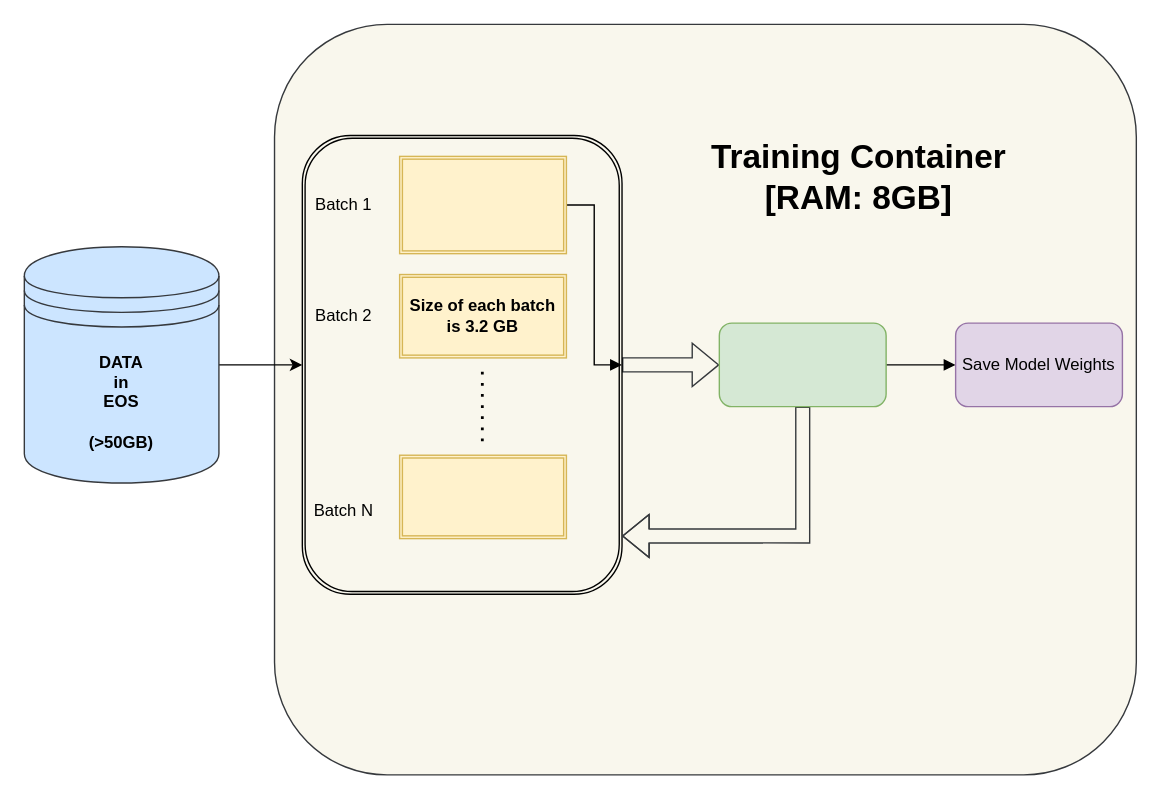
This 1161x799 diagram has some shape labels left out. Each missing label, with the centre of its shape:
"1 Energy of 1 angle of a particular geometry" belongs at pixel 482 204.
"Model.fit()" belongs at pixel 802 364.
